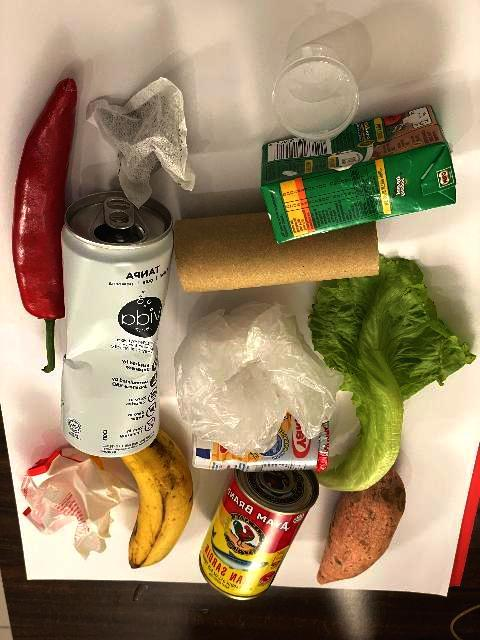banana: (120, 424, 194, 570)
chilli: (11, 78, 79, 374)
drinkcan: (59, 190, 175, 458)
drinkpack: (259, 104, 457, 246)
foodcan: (198, 461, 320, 602)
lettuce: (307, 253, 477, 492)
paperbag: (21, 448, 139, 560)
plasticcontainer: (270, 41, 360, 147)
sweetpotato: (316, 465, 406, 585)
teabag: (86, 75, 197, 212)
tissueroll: (174, 200, 380, 294)
